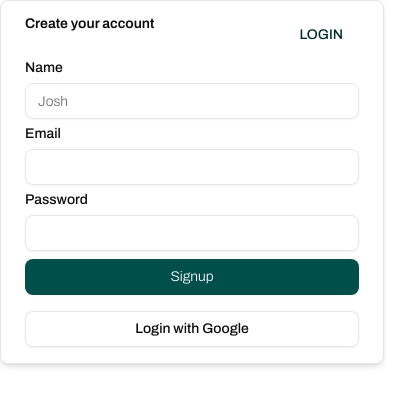
signup component › should render Username is already taken on span element error
The width and height of the screenshot is (402, 401).
Step 1. Type "test" into the field labelled "Name" → coordinates (192, 101), box [25,83,359,119]
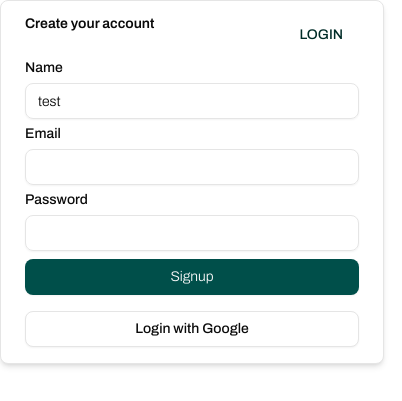
Step 2. Type "test@example.com" into the field labelled "Email" → coordinates (192, 167), box [25,149,359,185]
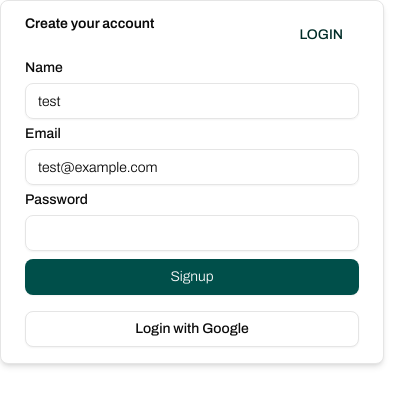
Step 3. Type "Password123@" into the password field labelled "Password" → coordinates (192, 233), box [25,215,359,251]
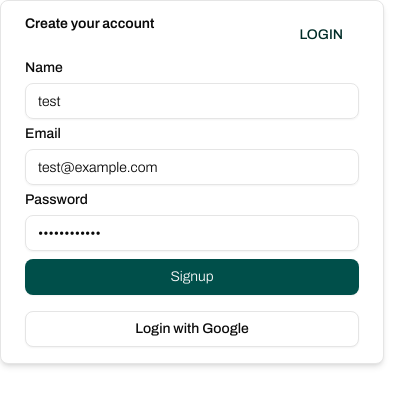
Step 4. Click the button "Signup" → coordinates (192, 277), box [25,259,359,295]
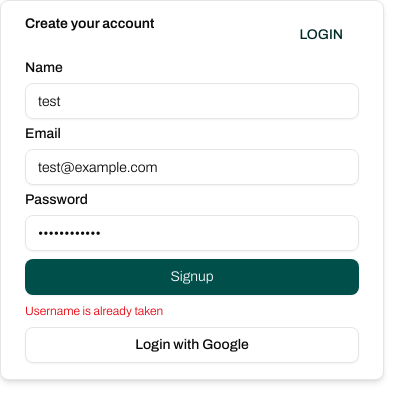
Check: the text with test id "error" reads "Username is already taken", box [25,304,163,318]
